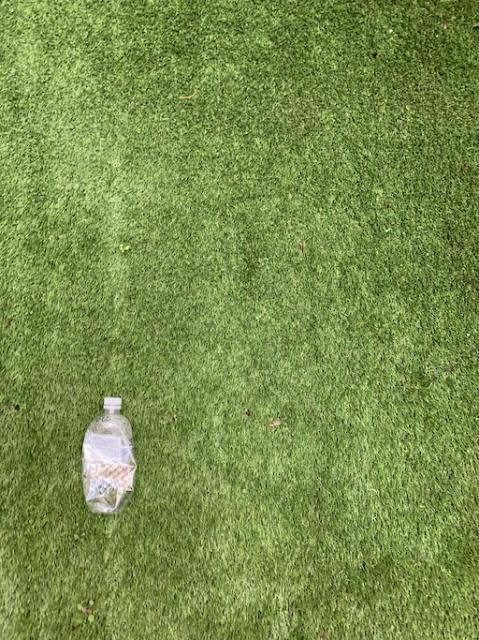plastic: (82, 396, 135, 512)
